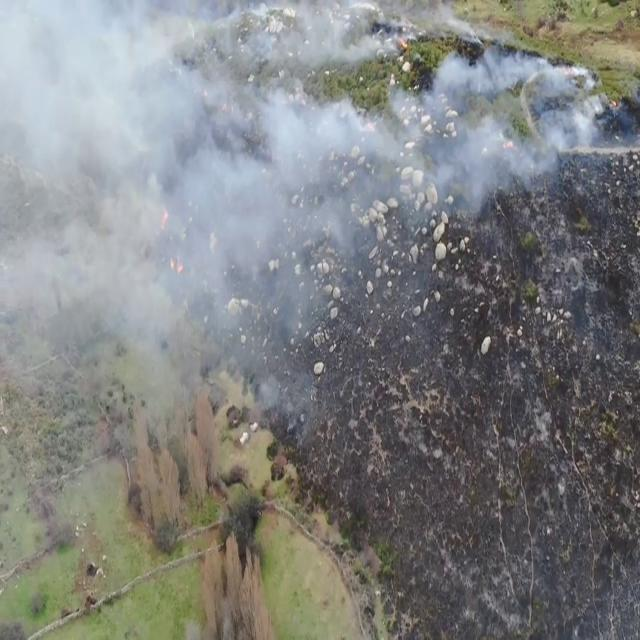Smoke: (0, 1, 335, 427), (370, 34, 606, 218)
